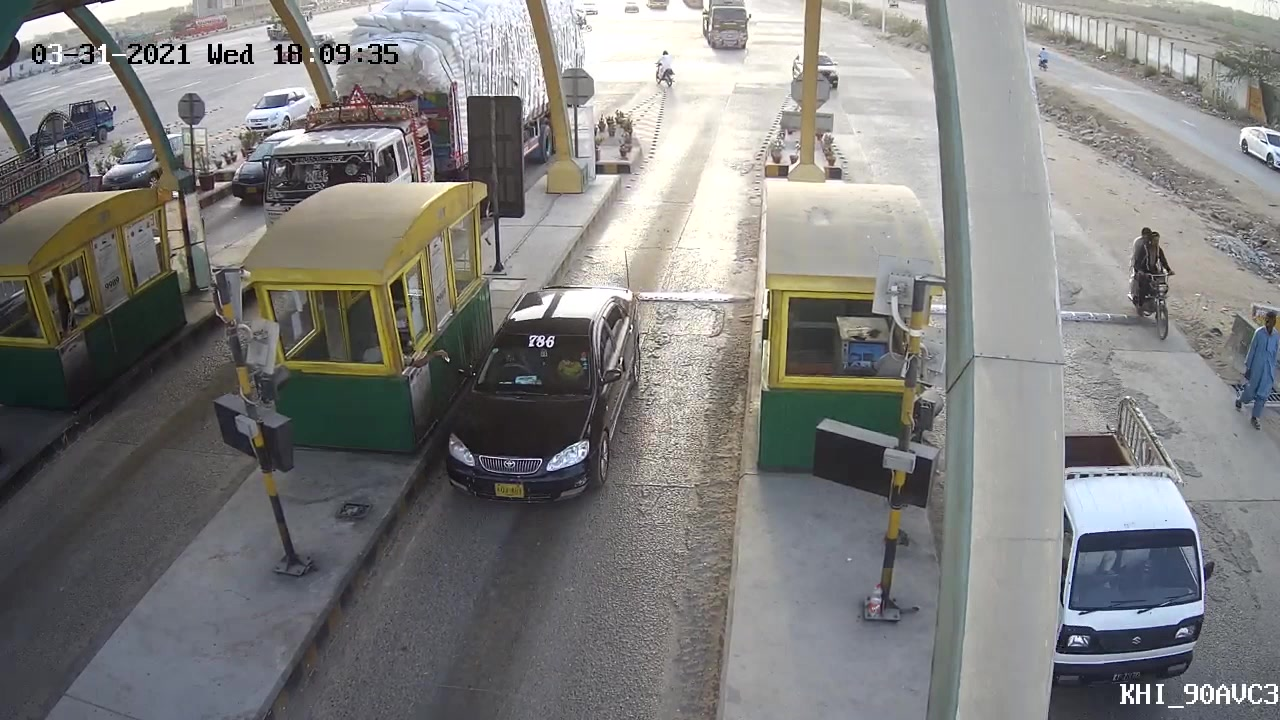F1: (428, 273, 649, 510)
